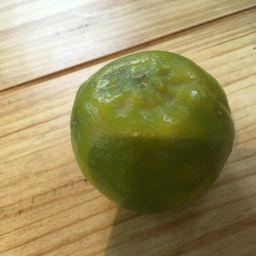Unripe: (69, 51, 233, 211)
